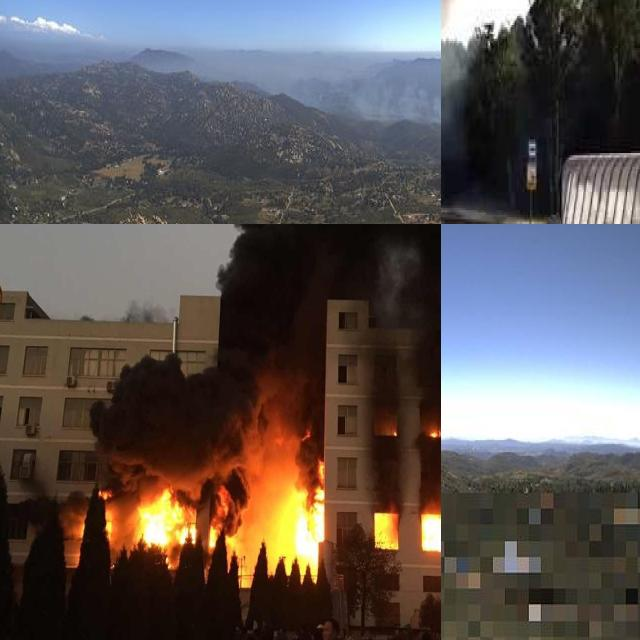fire: (126, 486, 242, 558), (270, 478, 328, 567), (374, 506, 398, 554), (419, 506, 441, 556), (424, 416, 441, 444)
smoke: (90, 224, 441, 470), (441, 0, 562, 157), (315, 76, 441, 129)
